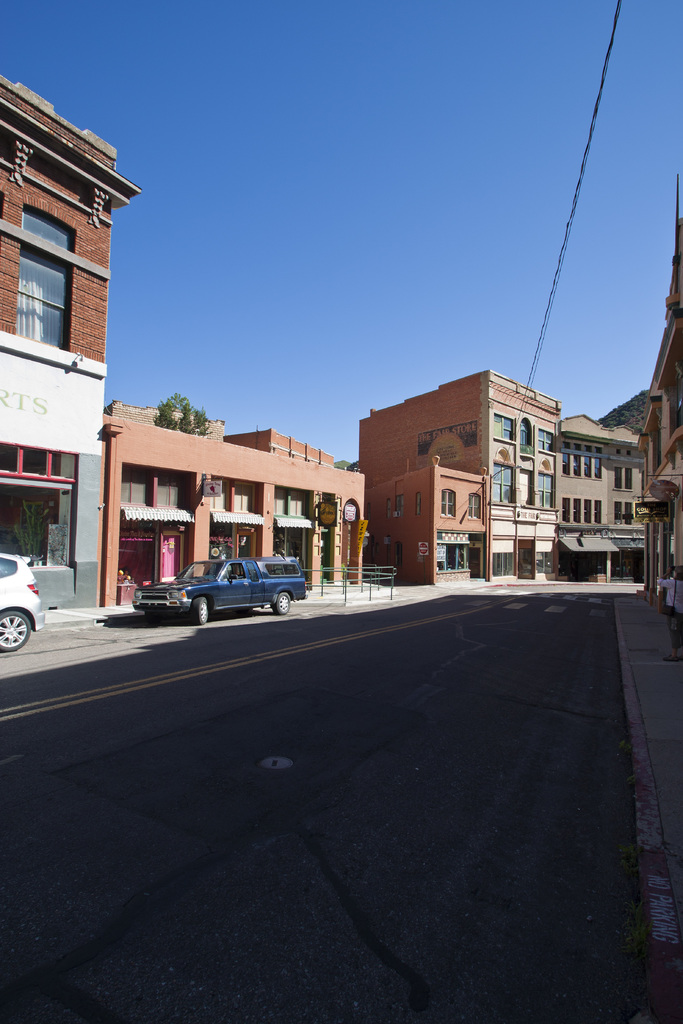Car: (137, 553, 312, 622), (0, 552, 37, 650)
